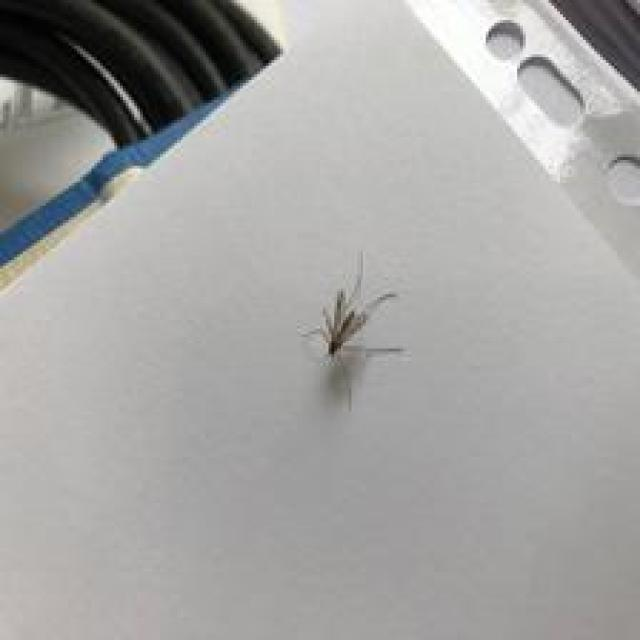Culex: (299, 250, 407, 410)
